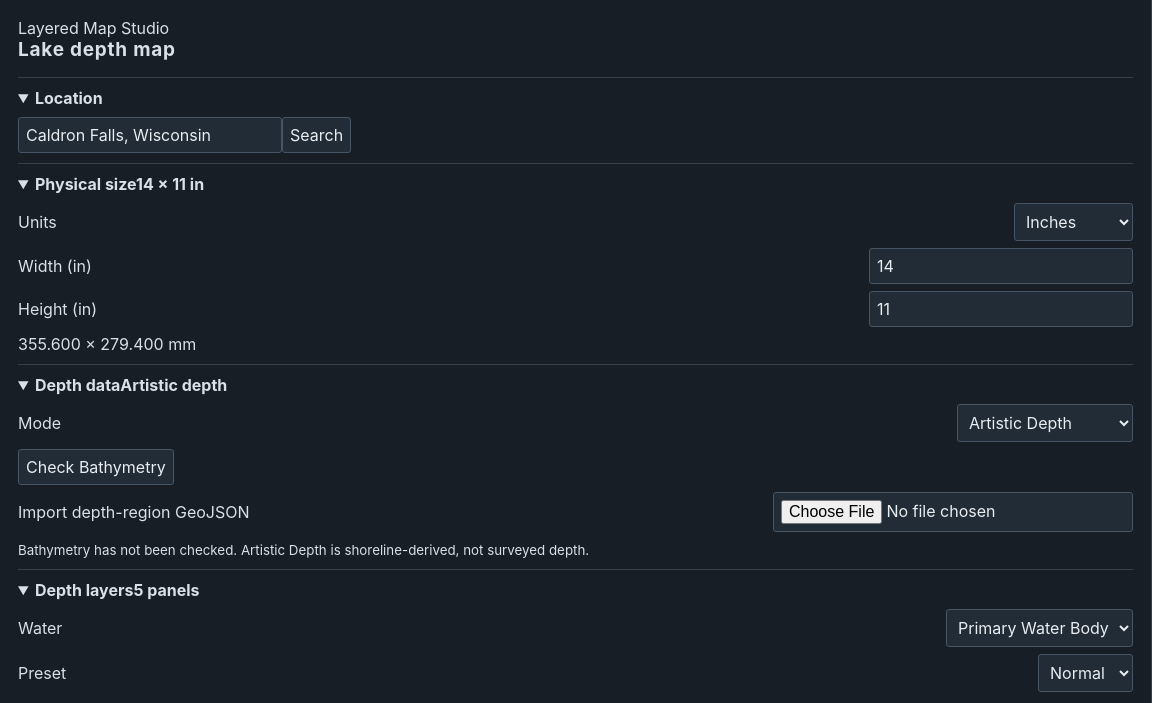
Scenario: Controls: location search › surfaces a proxy failure message instead of silently finding nothing
Click the button "Search" at (317, 135), box [282,117,351,153]
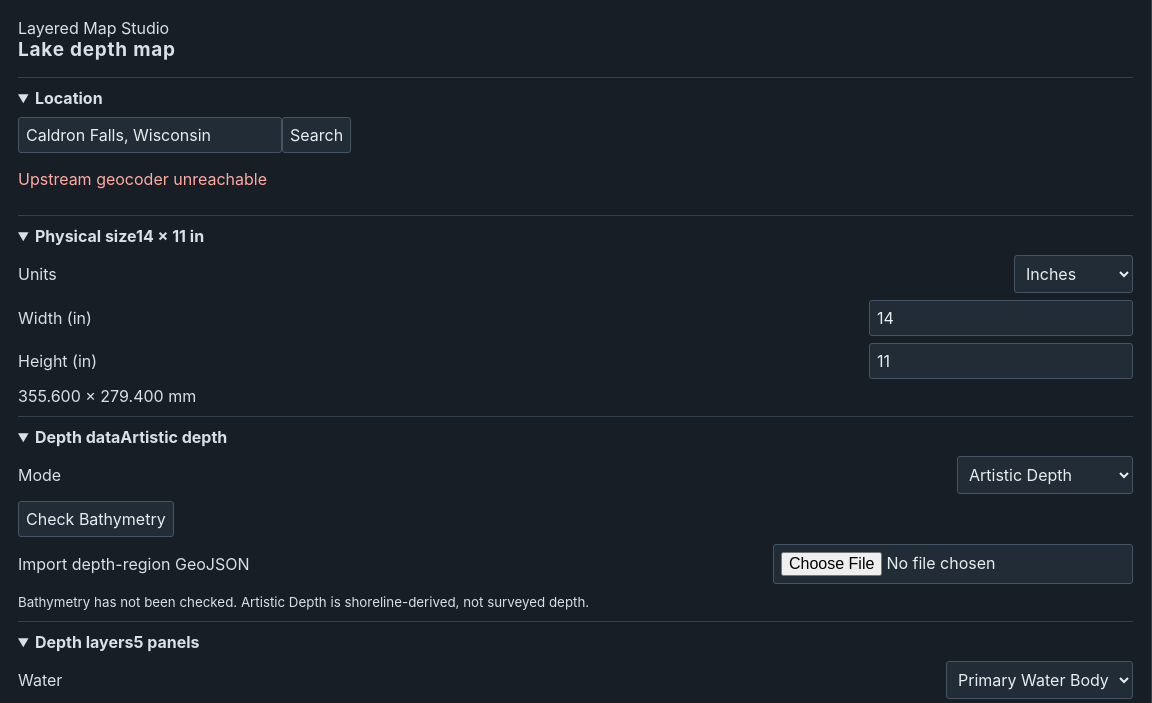
Expected: the text "Upstream geocoder unreachable" is shown, [18,169,267,189]
